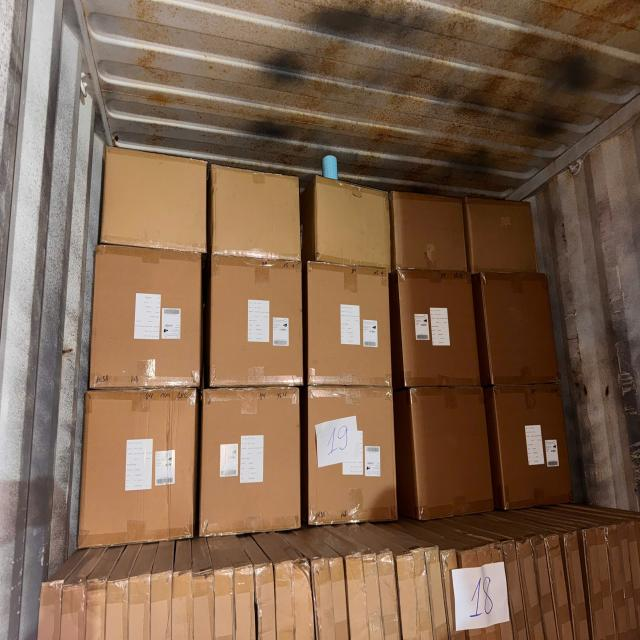Carton: (80, 387, 200, 544), (89, 245, 204, 391), (199, 389, 301, 537), (308, 385, 398, 524), (208, 261, 302, 389), (101, 146, 206, 255), (412, 384, 490, 517), (308, 268, 393, 390), (493, 388, 571, 512), (399, 278, 476, 390), (210, 166, 299, 262), (482, 276, 558, 386), (317, 180, 392, 270), (393, 196, 467, 276), (467, 201, 538, 277)
